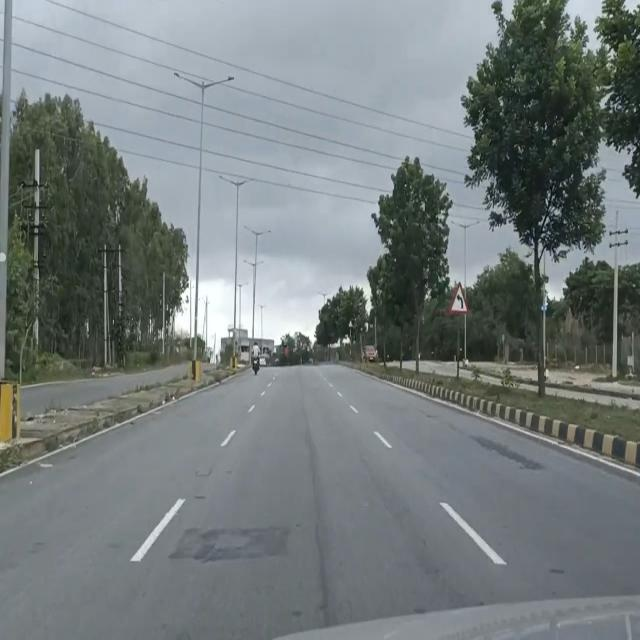bien_nguy_hiem: (449, 279, 469, 315)
